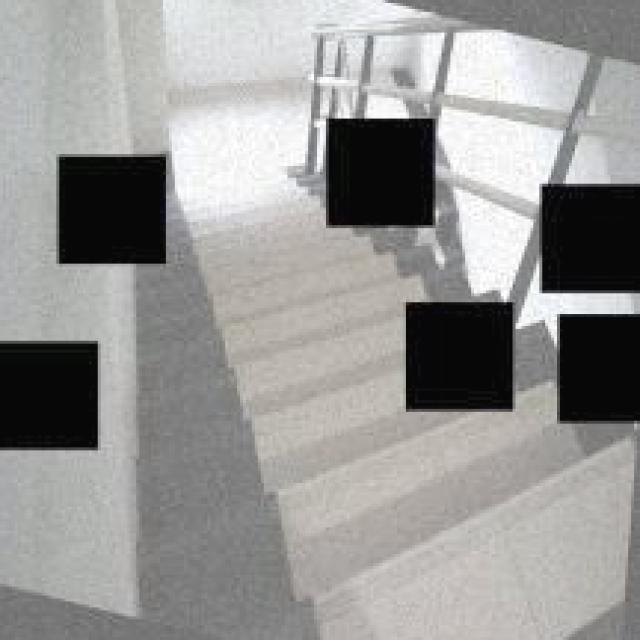downstair: (158, 292, 380, 615)
